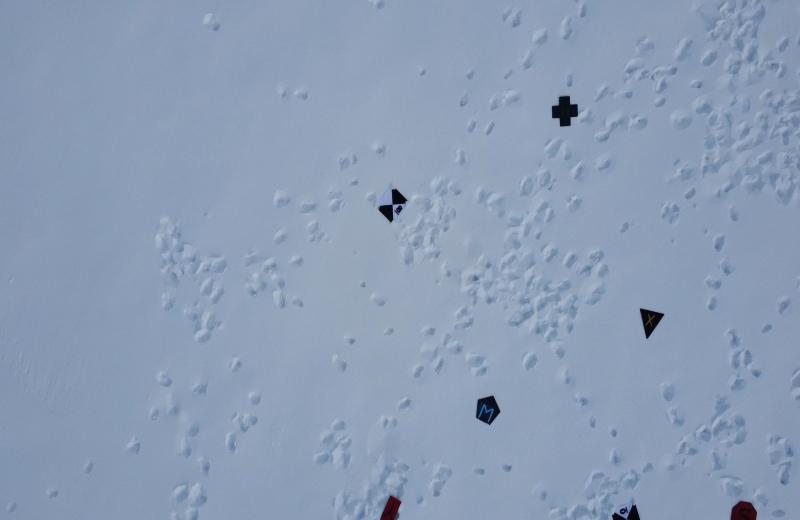Cross: (549, 93, 581, 129)
Octagon: (727, 495, 758, 520)
Pentagon: (472, 391, 505, 427)
Rectangle: (378, 490, 409, 520)
Triangle: (633, 303, 667, 345)
